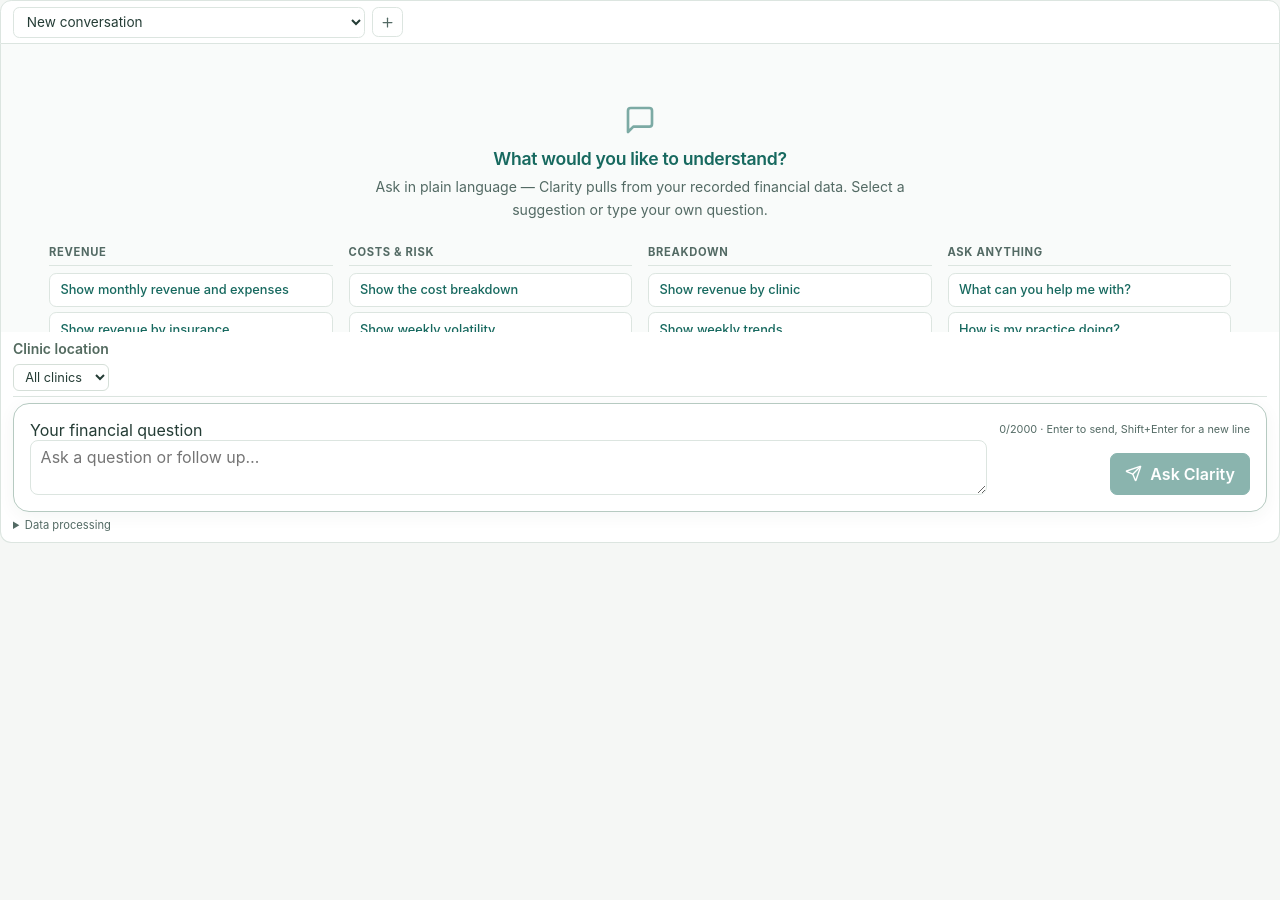
Scenario: reuses the same message ID after a lost response instead of duplicating the turn
In the text box labelled "Your financial question": (509, 467) top-left (30, 440), bottom-right (987, 495), type "Show monthly trends"
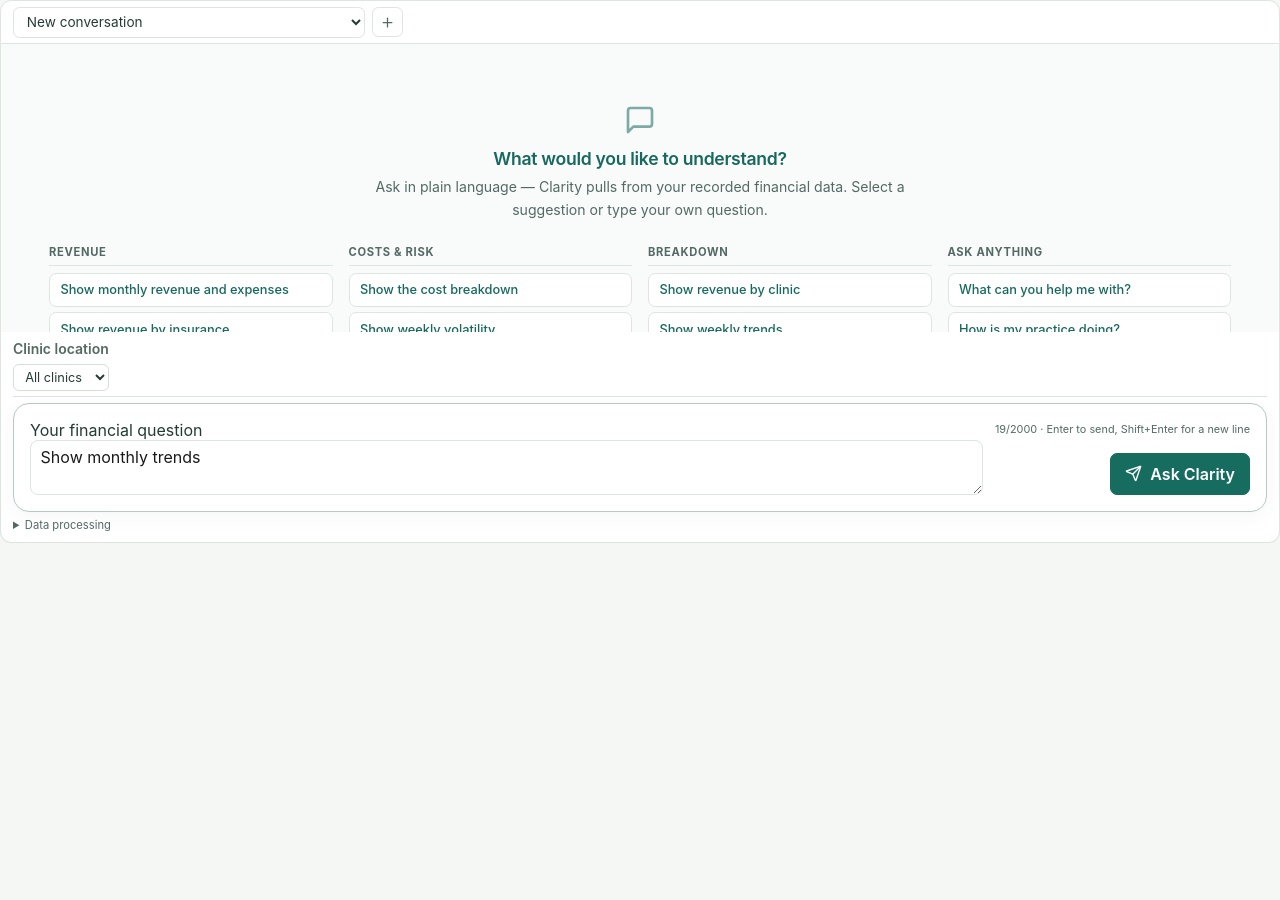
Click the button "Ask Clarity": (1180, 474) top-left (1110, 452), bottom-right (1250, 494)
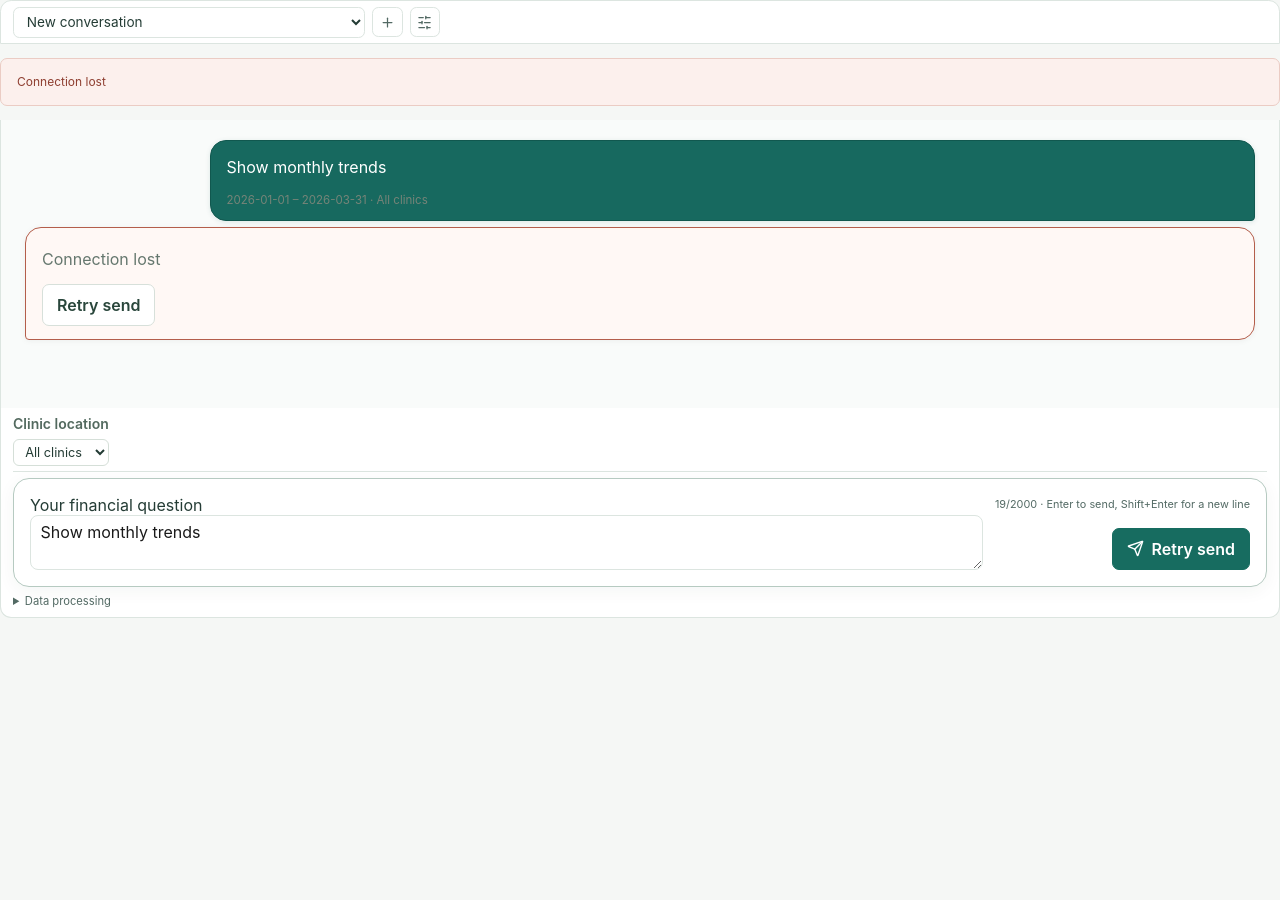
Check: the button "Retry send" below "2026-01-01" is shown
Click the button "Retry send" below "2026-01-01": (99, 305) top-left (42, 284), bottom-right (155, 326)
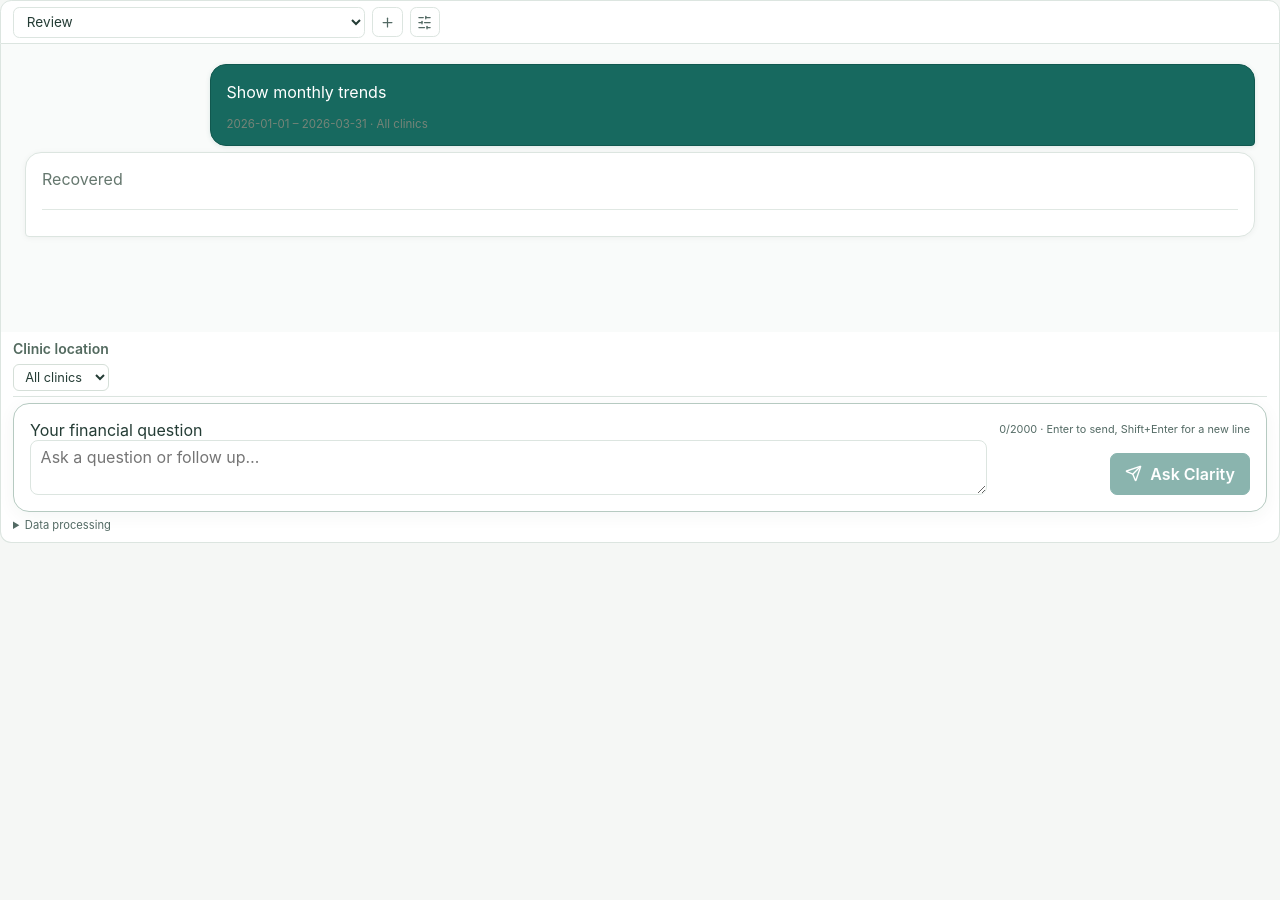
Check: the text "Recovered" is shown, box top-left (42, 169), bottom-right (123, 189)
